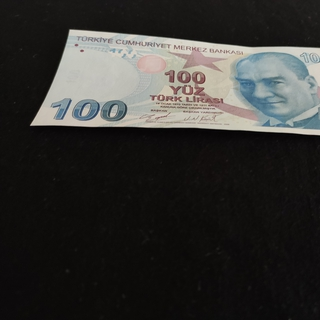100TLFront: (29, 27, 320, 138)
